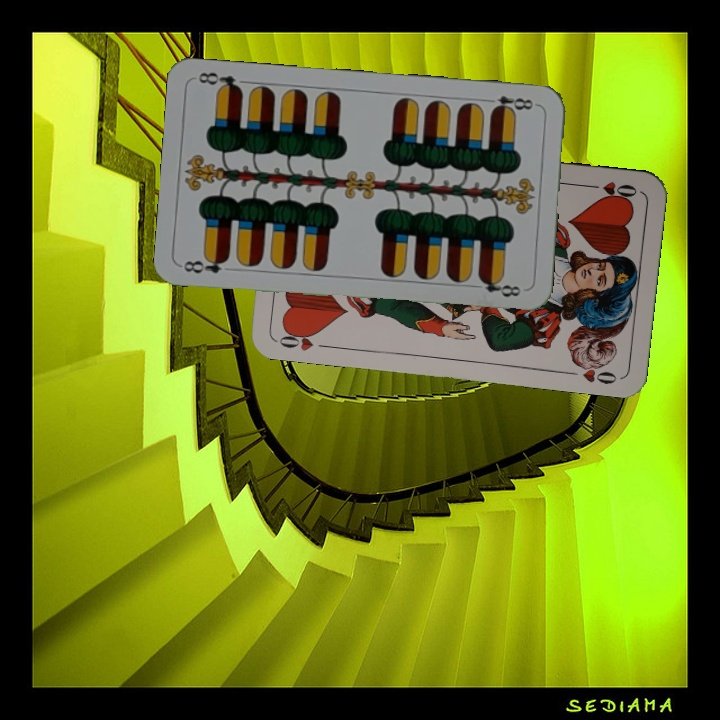E8: (481, 92, 540, 116), (180, 252, 232, 276)
HO: (273, 325, 332, 353), (582, 177, 640, 203)
